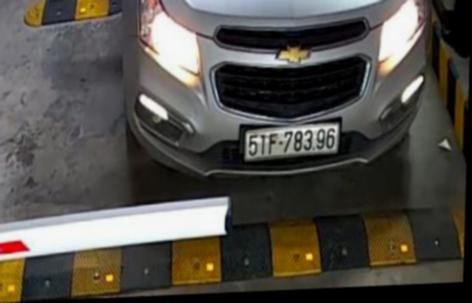License_Plate: (242, 124, 342, 172)
